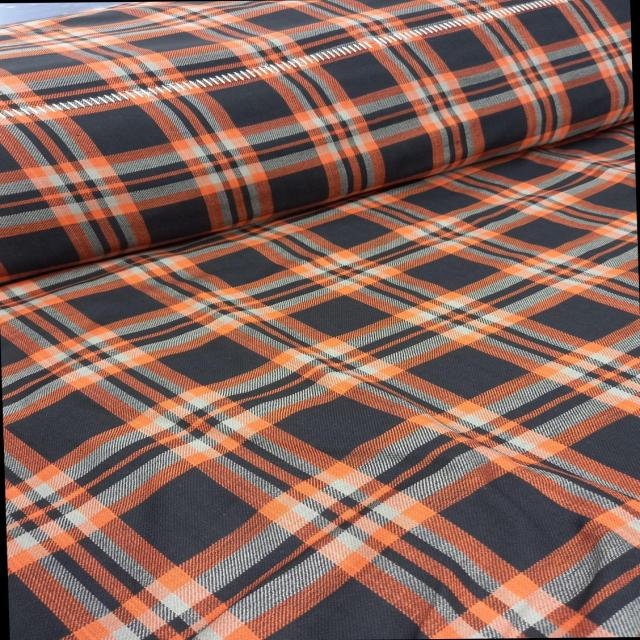gray stitch: (0, 0, 603, 125)
